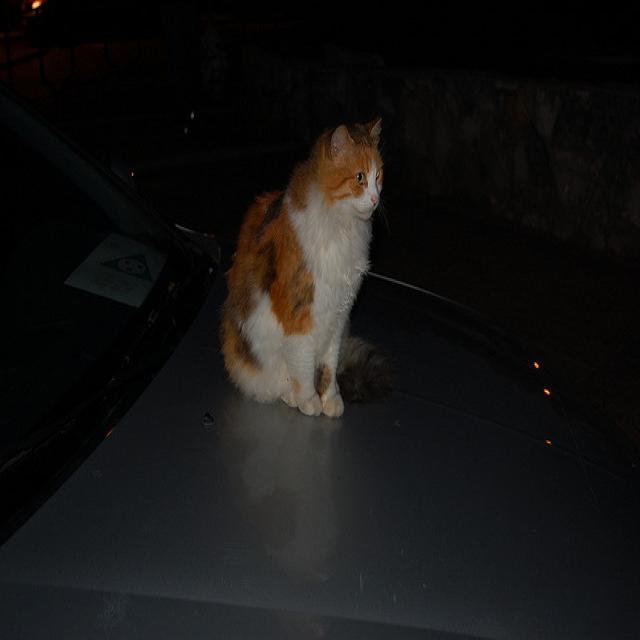Vehicle: (2, 72, 638, 631)
